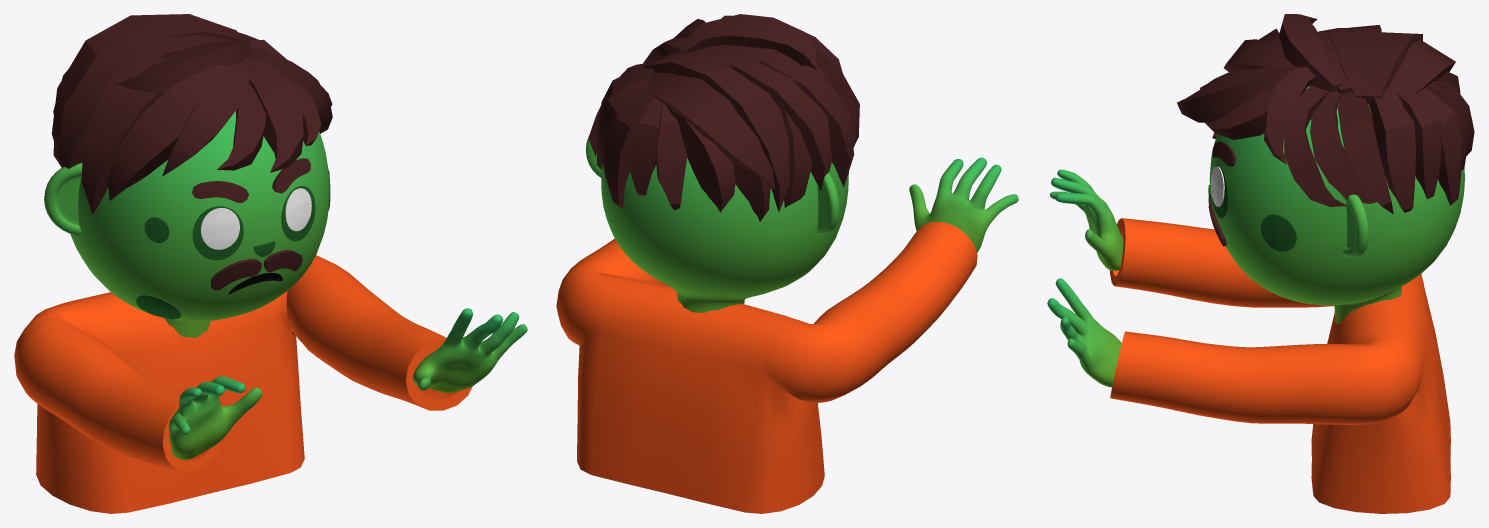
Rendered from man_zombie.fbx.
3 views of the same model, side by side, from view 1: azimuth 30°, elevation 25°; view 2: azimuth 150°, elevation 25°; view 3: azimuth 270°, elevation 25° (orthographic). The views are drawn at different scales.
Parts seen in each view (by area): view 1: Circle.1100, Cube.2738, Roundcube.236, hand.186, hand.184, Circle.1097, Circle.1095, Cylinder.199, Circle.1099, Circle.1098; view 2: Circle.1100, Cube.2738, Roundcube.236, hand.184, Cylinder.199; view 3: Circle.1100, Cube.2738, Roundcube.236, hand.186, hand.184, Cylinder.199, Circle.1098, Circle.1097, Circle.1095.
Part boxes in pixels (x1,y1,x2,y2): Circle.1100: [14, 255, 472, 513]; Cube.2738: [51, 14, 332, 214]; Roundcube.236: [61, 111, 329, 337]; hand.186: [412, 308, 527, 392]; hand.184: [168, 376, 262, 459]; Circle.1097: [192, 158, 310, 290]; Circle.1095: [201, 188, 311, 249]; Cylinder.199: [44, 163, 82, 235]; Circle.1099: [192, 186, 315, 260]; Circle.1098: [136, 170, 330, 319]; Circle.1100: [556, 222, 977, 513]; Cube.2738: [588, 14, 859, 221]; Roundcube.236: [601, 158, 848, 312]; hand.184: [909, 157, 1018, 252]; Cylinder.199: [585, 137, 839, 234]; Circle.1100: [1110, 218, 1450, 513]; Cube.2738: [1177, 14, 1474, 214]; Roundcube.236: [1209, 86, 1464, 324]; hand.186: [1047, 278, 1121, 387]; hand.184: [1050, 169, 1123, 270]; Cylinder.199: [1342, 194, 1369, 258]; Circle.1098: [1261, 214, 1296, 251]; Circle.1097: [1208, 132, 1236, 246]; Circle.1095: [1211, 139, 1224, 206].
Size of the model in its own units: 193 by 238 by 216.
1 material, 1 textured.
